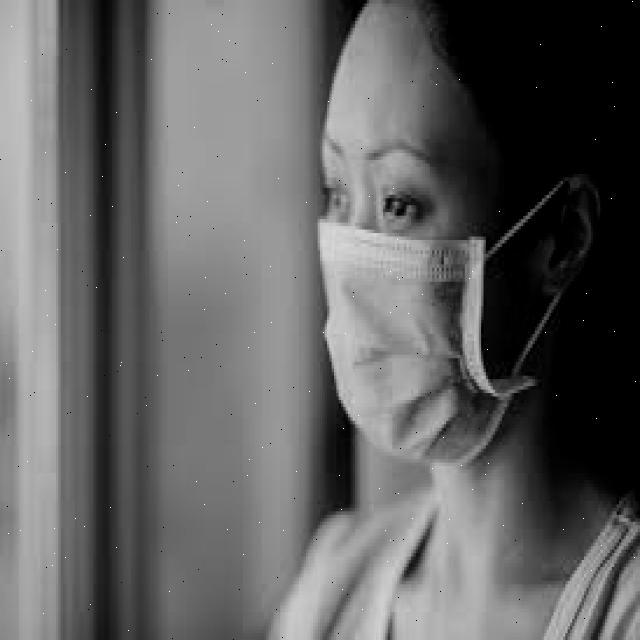fake: (317, 224, 523, 476)
real: (316, 1, 505, 475)
